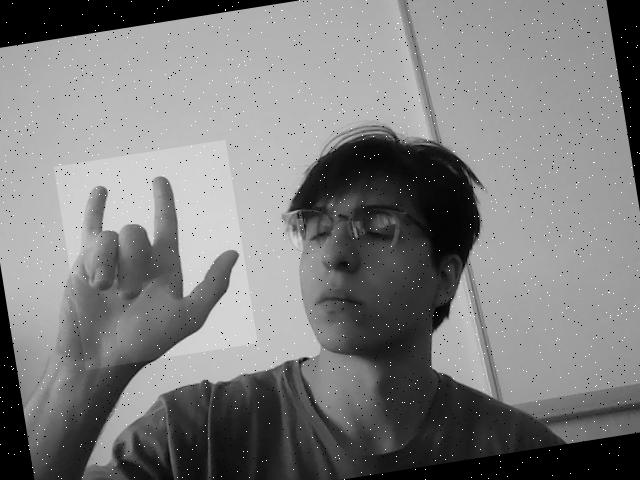I_Love_You: (54, 140, 258, 370)
